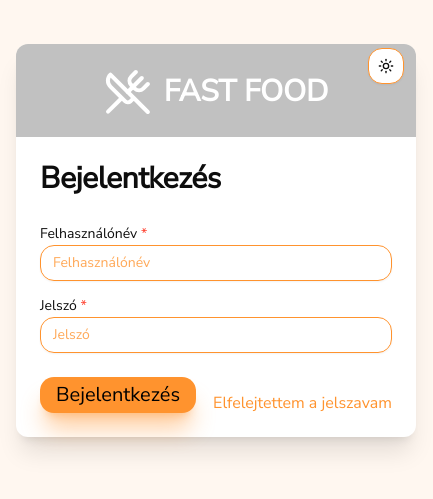
Login oldal › Validációs hibaüzenetek megjelennek, ha üresen küldjük be a formot
Click the button with test id "submit" at x=118, y=395, box [40,377,196,413]
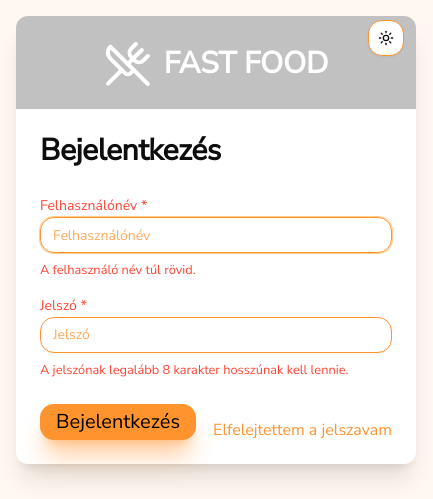
Result: the text "A felhasználó név túl rövid." is shown at [40,261,196,279]
Result: the text "A jelszónak legalább 8 karakter hosszúnak kell lennie." is shown at [40,360,392,380]
